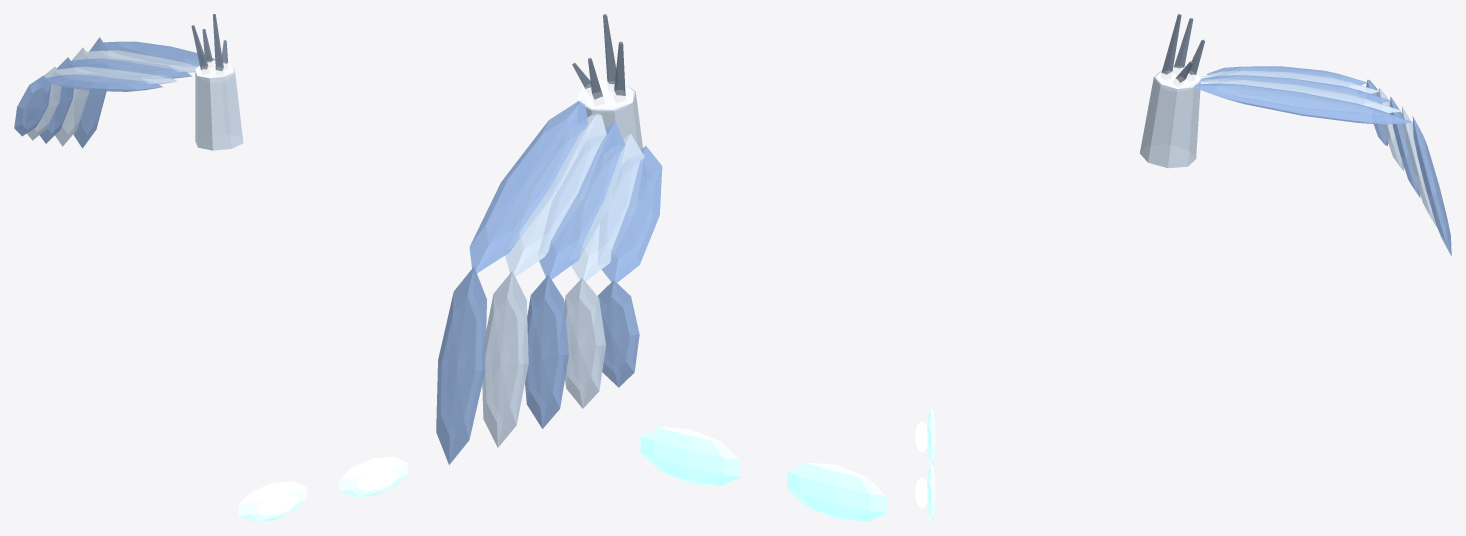
File: fog_knight_helm.glb
3 renders of one model, left to right at view 1: azimuth 30°, elevation 25°; view 2: azimuth 150°, elevation 25°; view 3: azimuth 270°, elevation 25°, orthographic. The views are drawn at different scales.
Parts seen in each view (by area): view 1: fog_knight_helm; view 2: fog_knight_helm; view 3: fog_knight_helm.
Boxes of the visible parts, x1=… form: fog_knight_helm: x1=14, y1=14, x2=407, y2=521; fog_knight_helm: x1=436, y1=14, x2=886, y2=521; fog_knight_helm: x1=915, y1=14, x2=1451, y2=521.
Size of the model in its own units: 0.5423 by 1.1 by 1.13.
